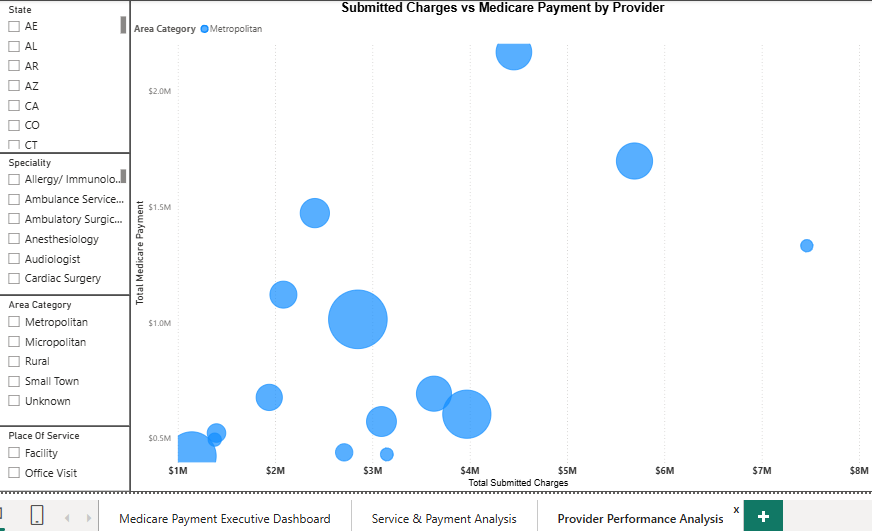

This screenshot's page, from the dashboard's own definition file:
{"tool":"powerbi","page":{"name":"Provider Performance Analysis","canvas":[1280,720],"ordinal":2},"visuals":[{"type":"scatterChart","title":"Submitted Charges vs Medicare Payment by Provider","fields":{"Size":["Sum(Transformed Data.Total Services  )"],"Category":["Transformed Data.Renderring Provider Name"],"Y":["Sum(Transformed Data.Total Medicare Payment)"],"X":["Sum(Transformed Data.Total Submitted Charges)"],"Series":["Area Category wise  Medicare Payment (Pivot Table 2).Area Category"]},"box":[192,0,1088,720],"z":0},{"type":"slicer","fields":{"Values":["Transformed Data.Place_Of_Service"]},"box":[0,624,192,96],"z":1000},{"type":"slicer","fields":{"Values":["Transformed Data.Area Category"]},"box":[0,432,192,192],"z":2000},{"type":"slicer","fields":{"Values":["Transformed Data.Rendering Provider State"]},"box":[0,0,192,224],"z":3000},{"type":"slicer","fields":{"Values":["Transformed Data.Rendering Provider Type  "]},"box":[0,224,192,208],"z":4000}]}

Visuals, with their boxes in screenshot pixels (x1, y1, x2, y2):
"Submitted Charges vs Medicare Payment by Provider" scatterChart: x1=127 y1=7 x2=858 y2=491
slicer - Transformed Data.Place_Of_Service: x1=0 y1=426 x2=127 y2=491
slicer - Transformed Data.Area Category: x1=0 y1=297 x2=127 y2=426
slicer - Transformed Data.Rendering Provider State: x1=0 y1=7 x2=127 y2=157
slicer - Transformed Data.Rendering Provider Type  : x1=0 y1=157 x2=127 y2=297
